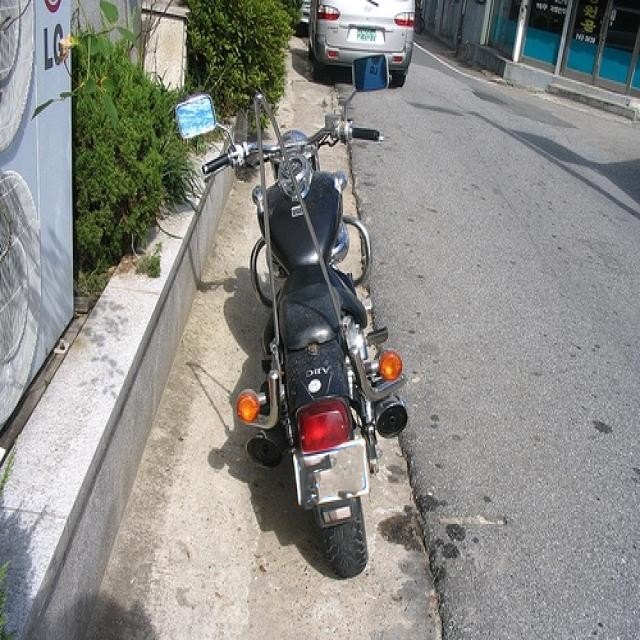motorcycle: (175, 78, 411, 576)
